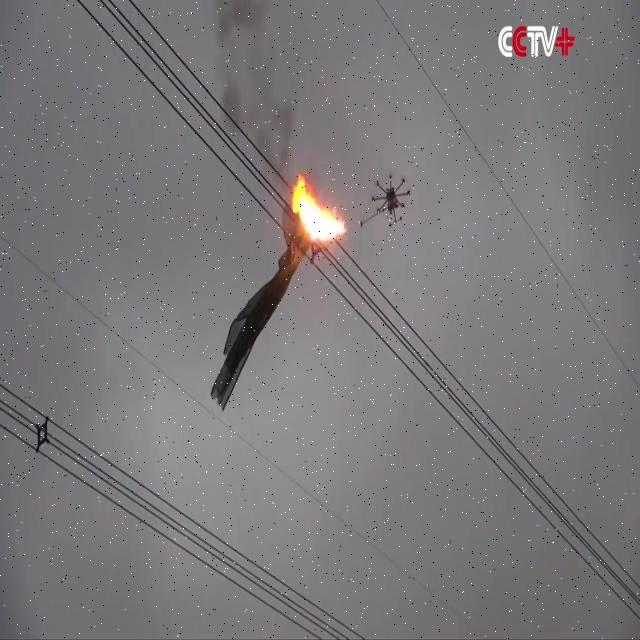UAV: (358, 174, 410, 228)
